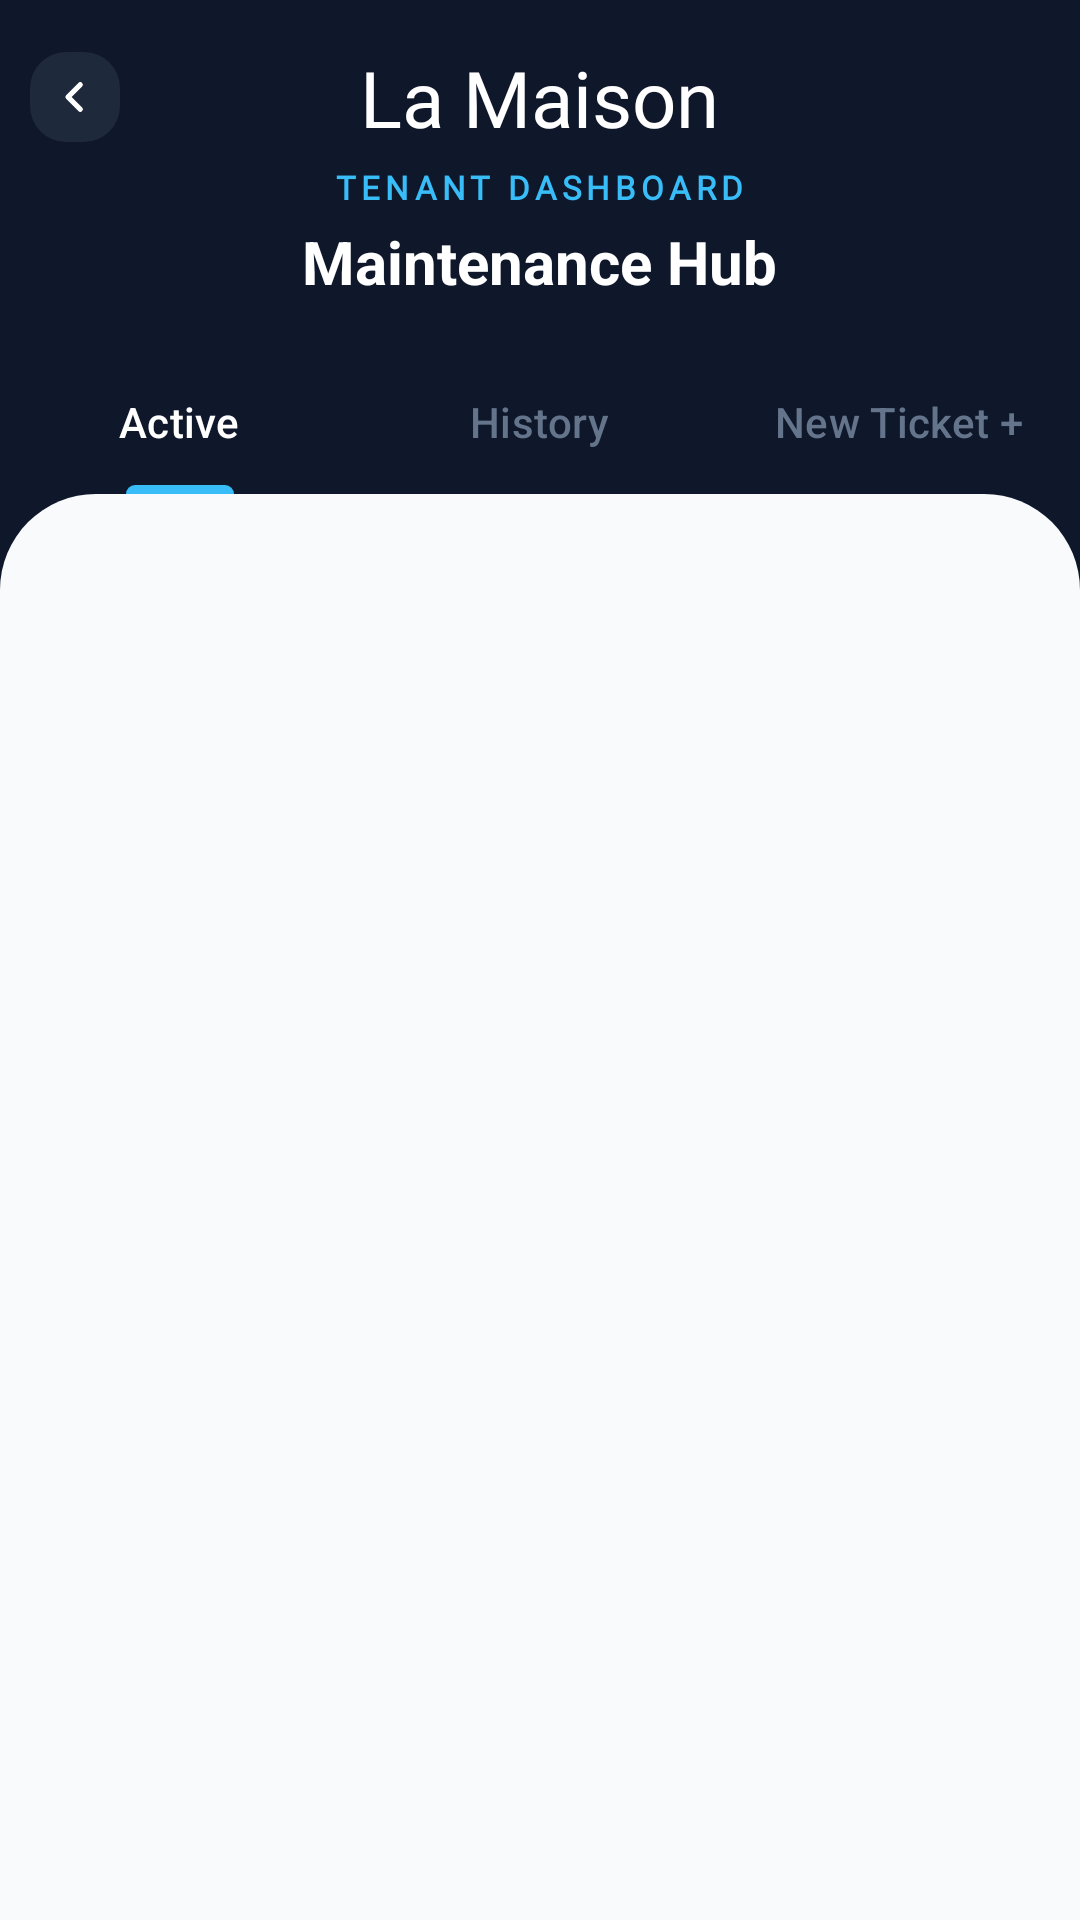

Where to tap for icons on this 1080px×1920px app screen, as (x=x, y=y):
chevron left: (x=75, y=97)
